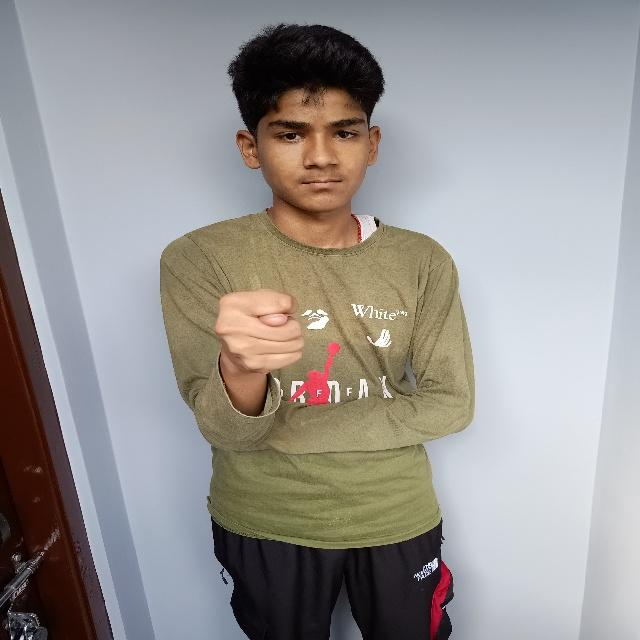Dulya: (209, 284, 312, 396)
